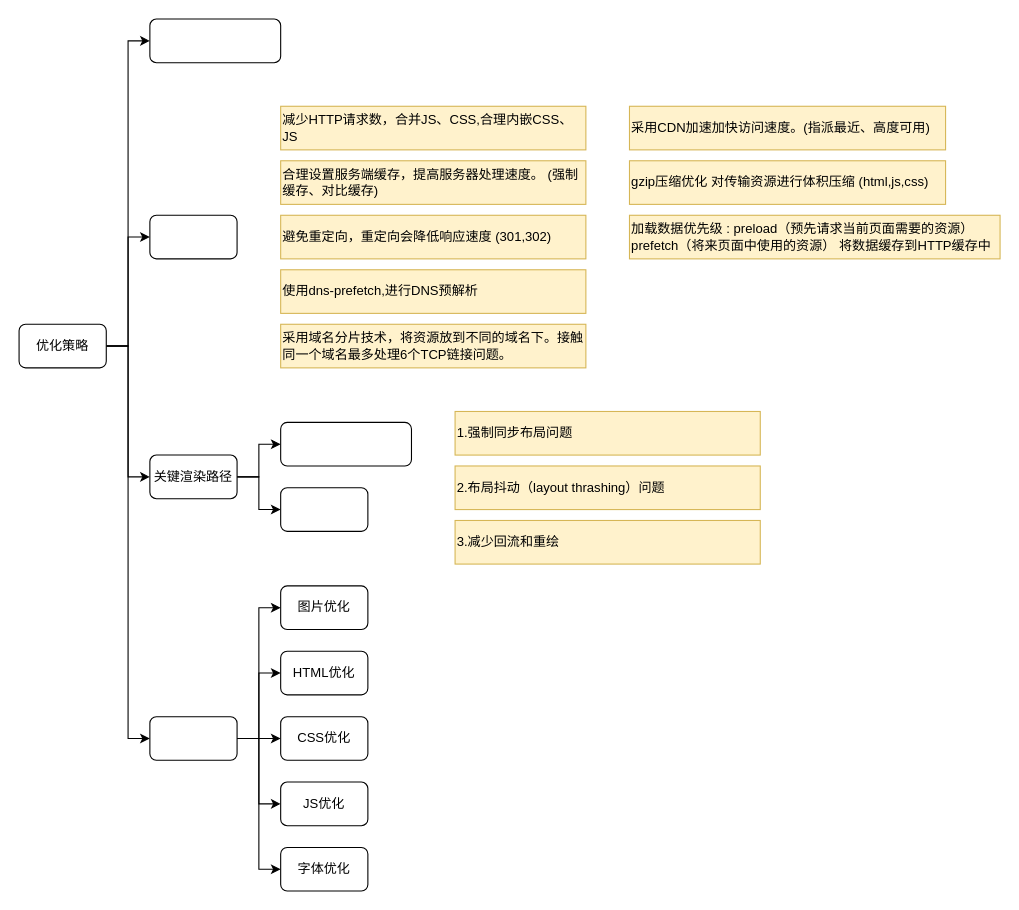
The diagram is 1019 pixels wide and 910 high, and some of its shapes have lost their labels. The shapes that lost their labels are listed below. From the top down, each one's centre as x and y in pixels, then its label:
At (215,40): "Perfomance API".
At (193,236): "网络优化策略".
At (345,443): "重排（回流）Reflow".
At (324,509): "重绘 Repaint".
At (193,738): "静态文件优化".
